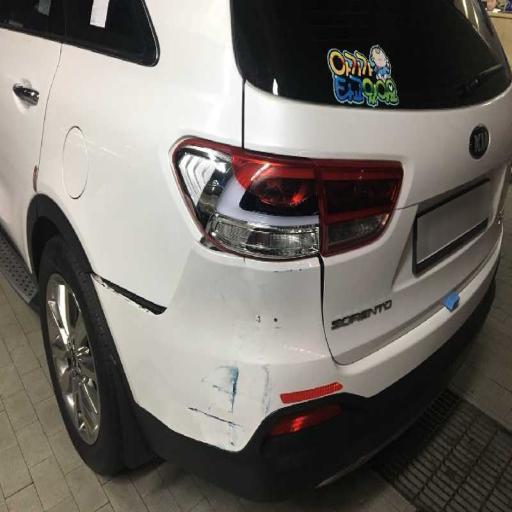broken: (79, 211, 185, 377)
scratch: (192, 332, 288, 462)
